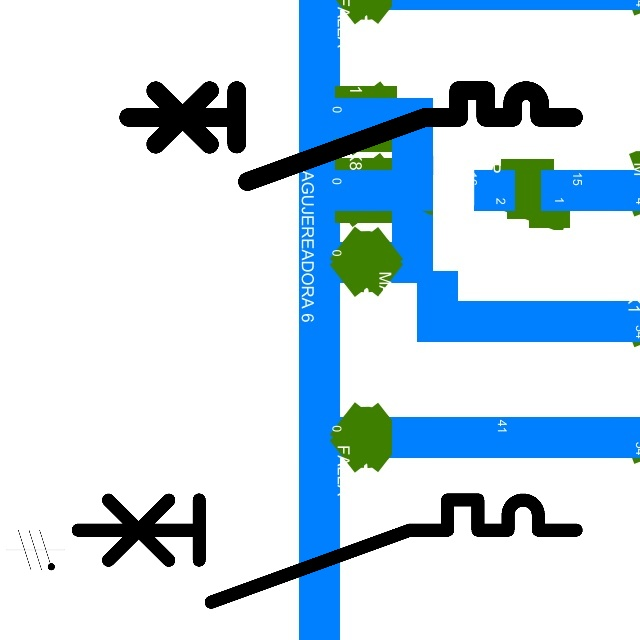interruptor_termomagnetico: (65, 487, 589, 615), (117, 79, 585, 193)
